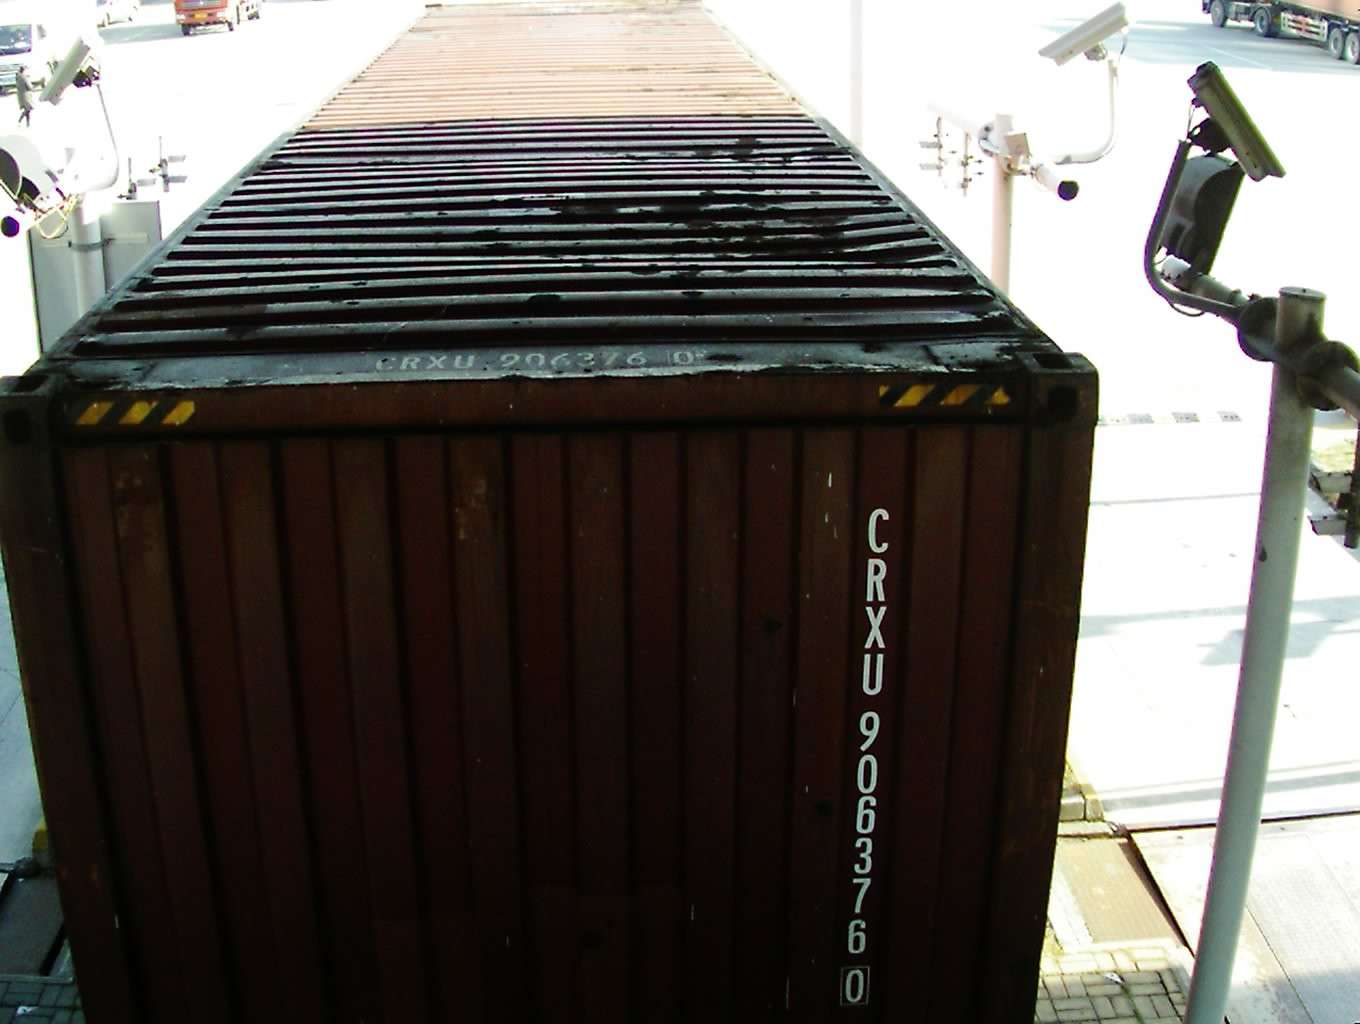words: (842, 496, 893, 1008)
